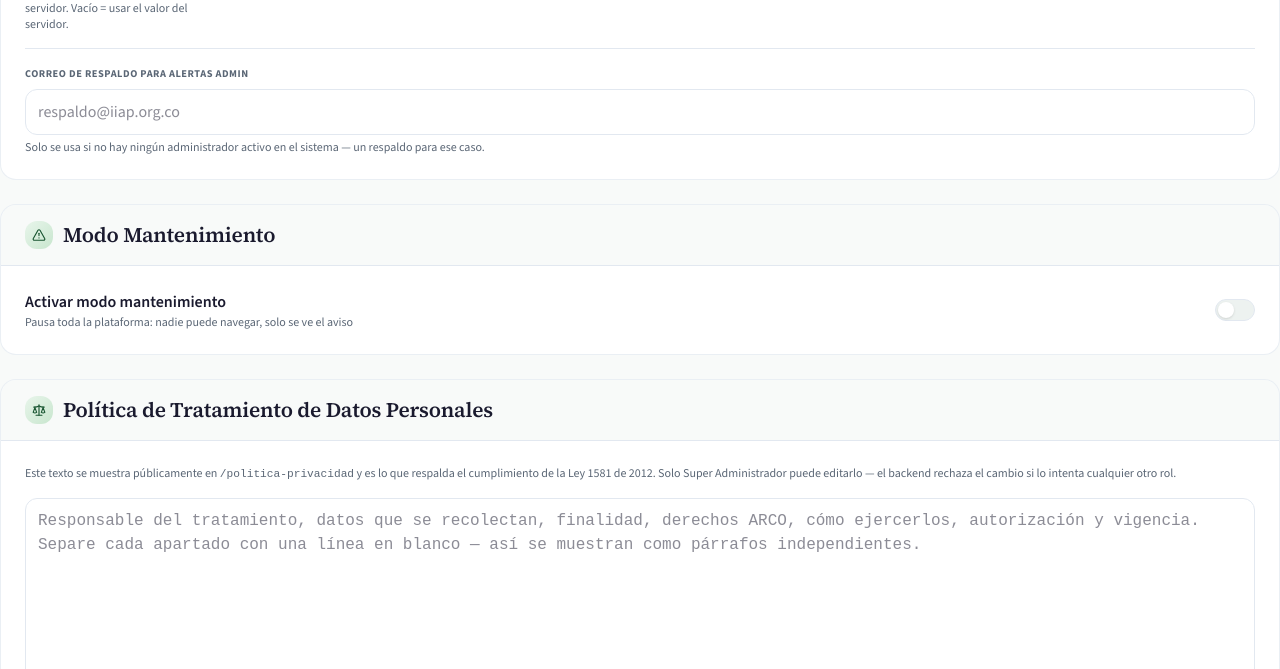
it: Configuracion — modo mantenimiento › activar el modo mantenimiento revela el campo de mensaje
The width and height of the screenshot is (1280, 669).
(page scrolled)
Expected: the field labelled "Mensaje de mantenimiento" is not shown
Click the switch.
click(1235, 310)  # box [1215, 299, 1255, 321]
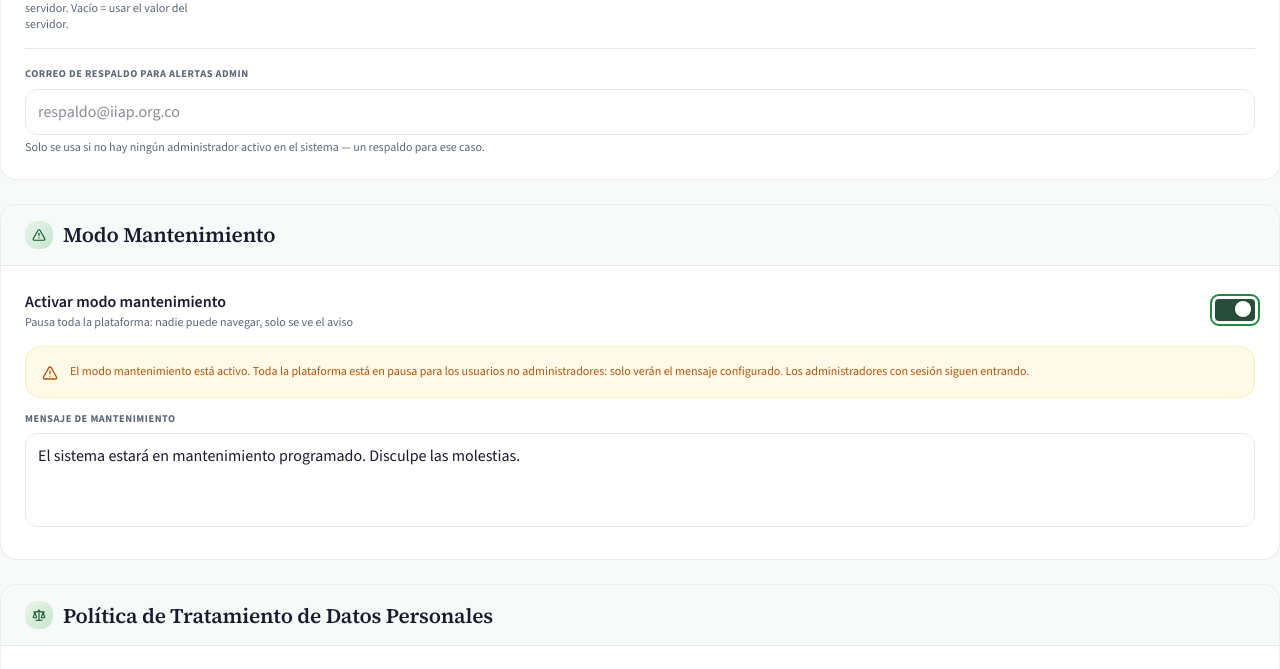
Now the text box labelled "Mensaje de mantenimiento" is shown, box [25, 433, 1255, 527]
